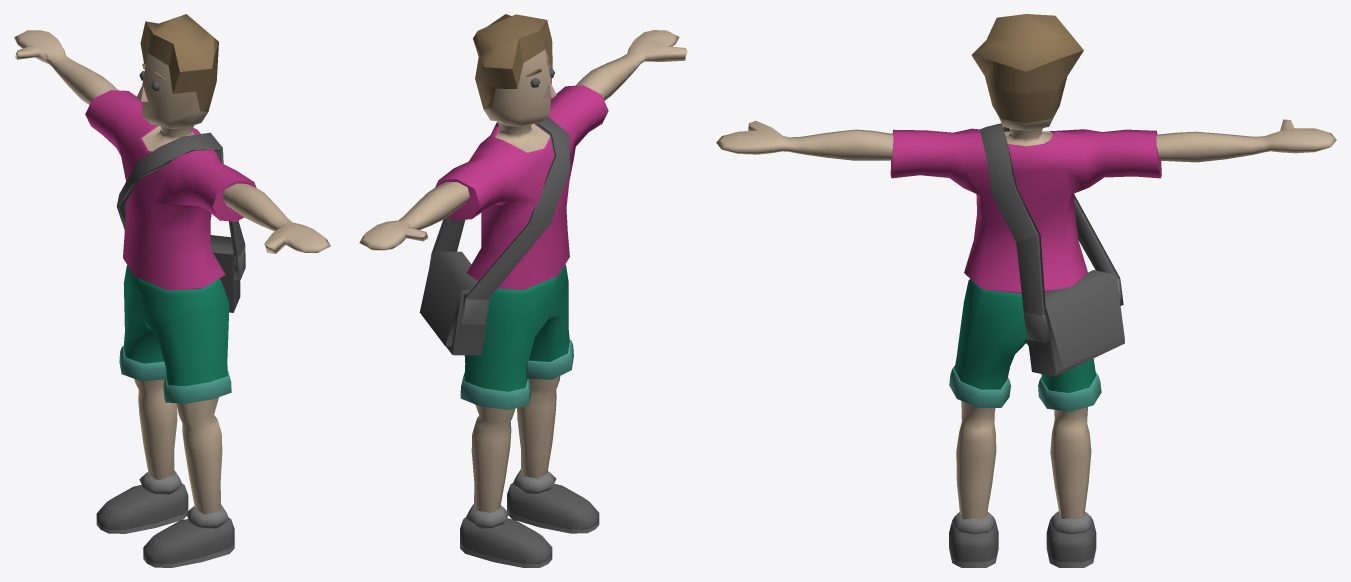
The model's file is humann.fbx.
The picture shows the model from 3 angles, left to right: view 1: azimuth 30°, elevation 25°; view 2: azimuth 150°, elevation 25°; view 3: azimuth 270°, elevation 25°; orthographic projection. The views are drawn at different scales.
Visible parts, largest first — view 1: pCube21; view 2: pCube21; view 3: pCube21.
Boxes of the visible parts, box(x1,y1,x2,y2) form: pCube21: box(14, 14, 330, 567); pCube21: box(359, 14, 687, 567); pCube21: box(716, 14, 1336, 567).
Size of the model in its own units: 1.67 by 6.21 by 6.45.
